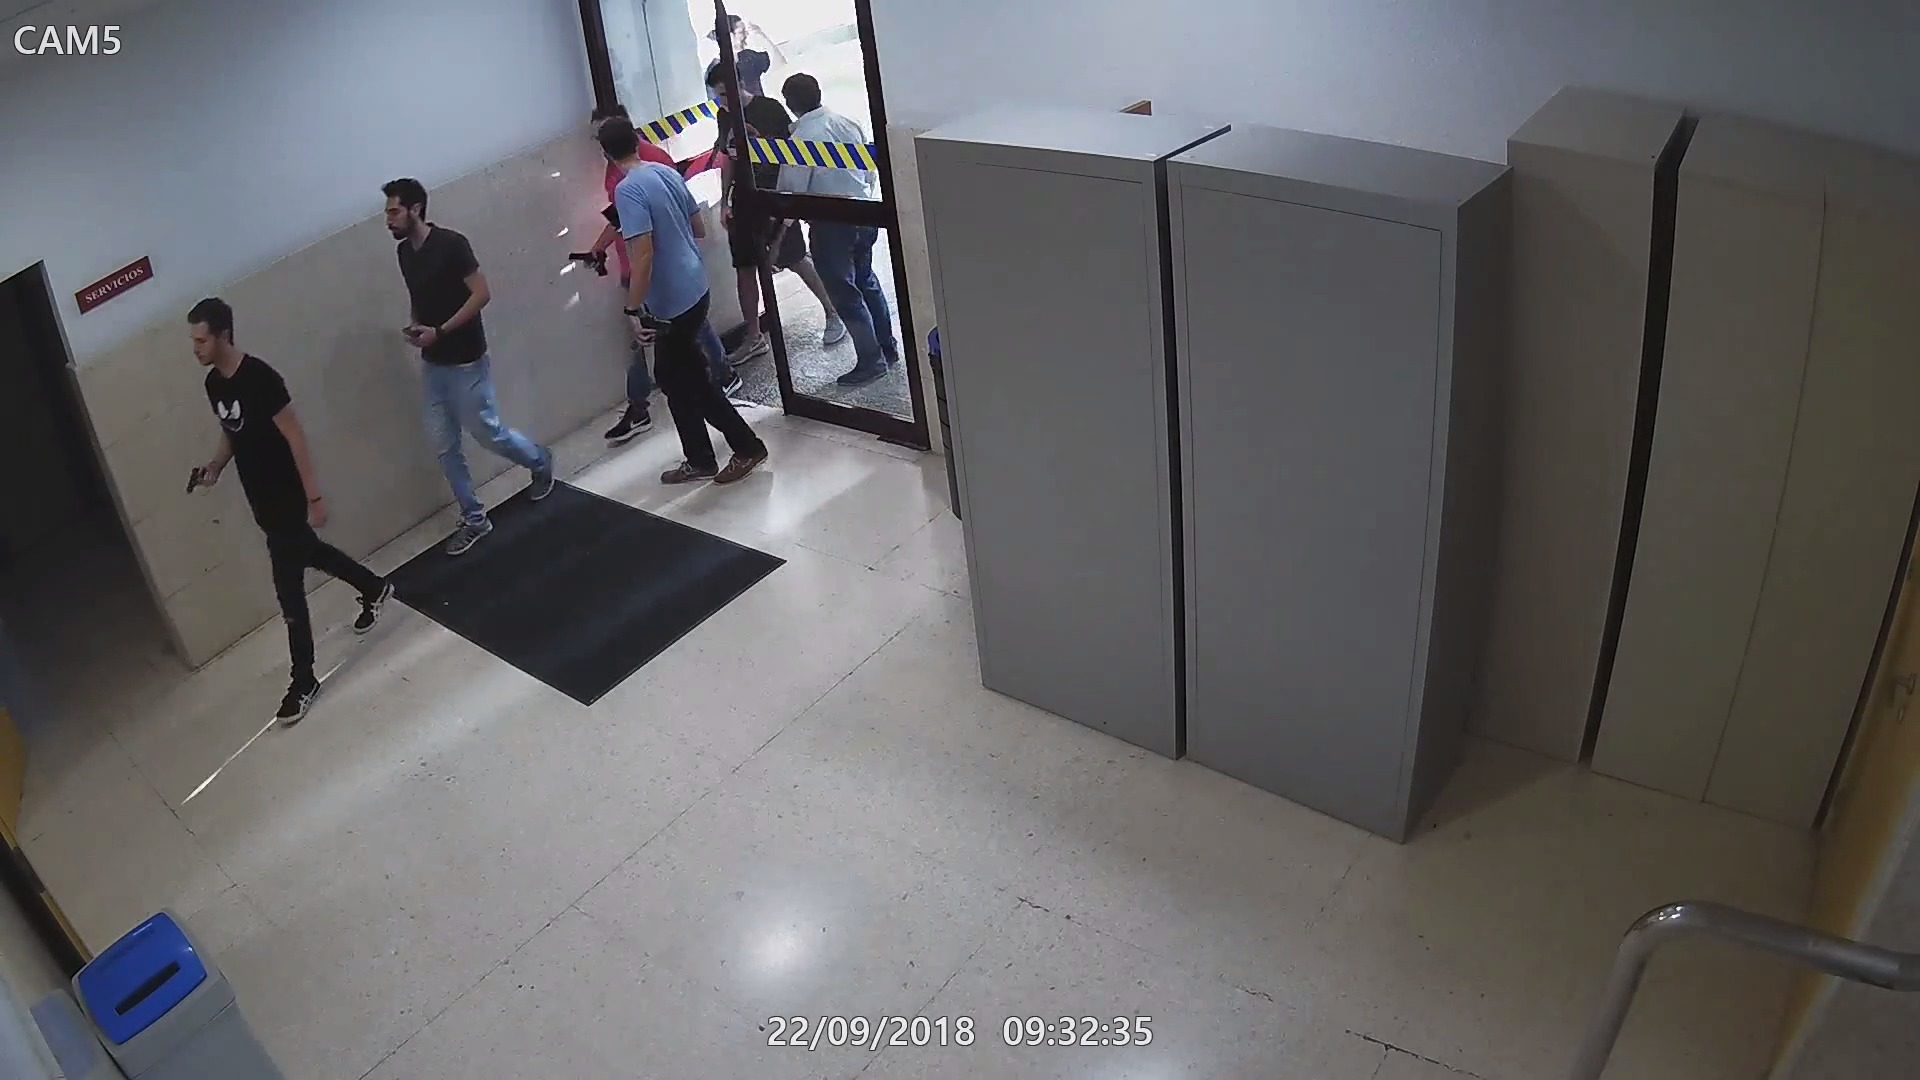knife: (638, 310, 665, 382)
pistol: (626, 311, 670, 356), (564, 245, 612, 278), (185, 462, 223, 497), (396, 324, 436, 352)
